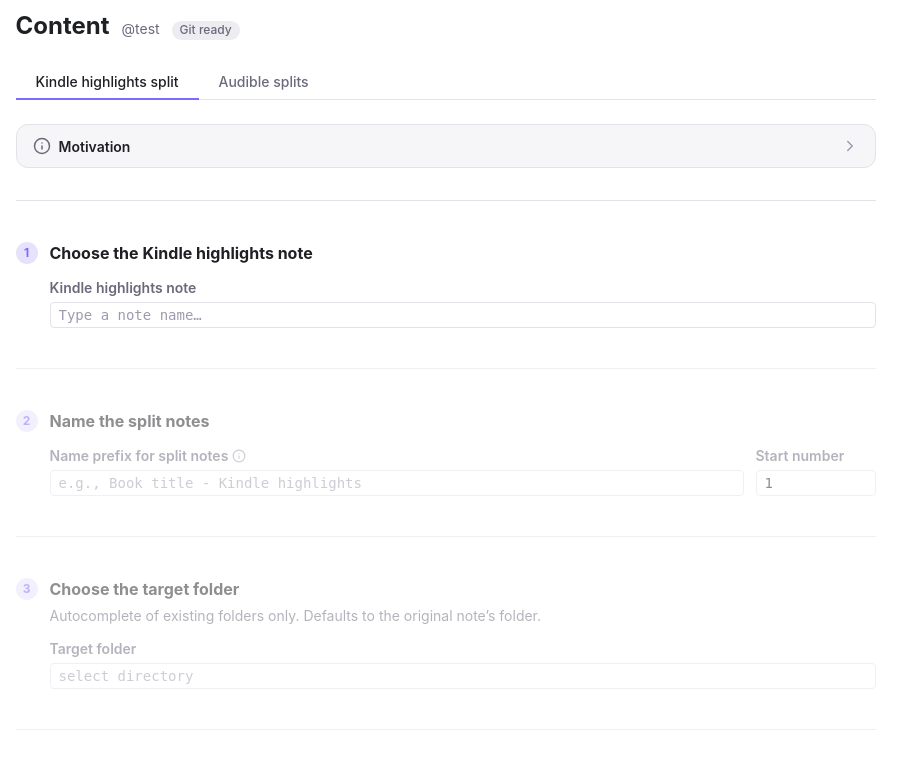
it: ContentPage: choosing a Kindle note confirms it and shows the highlight count
This screenshot has width=905, height=768.
In the field with placeholder "Type a note name…": {"x": 462, "y": 315} [50,302,876,328], type "Agile - Kindle highlights"
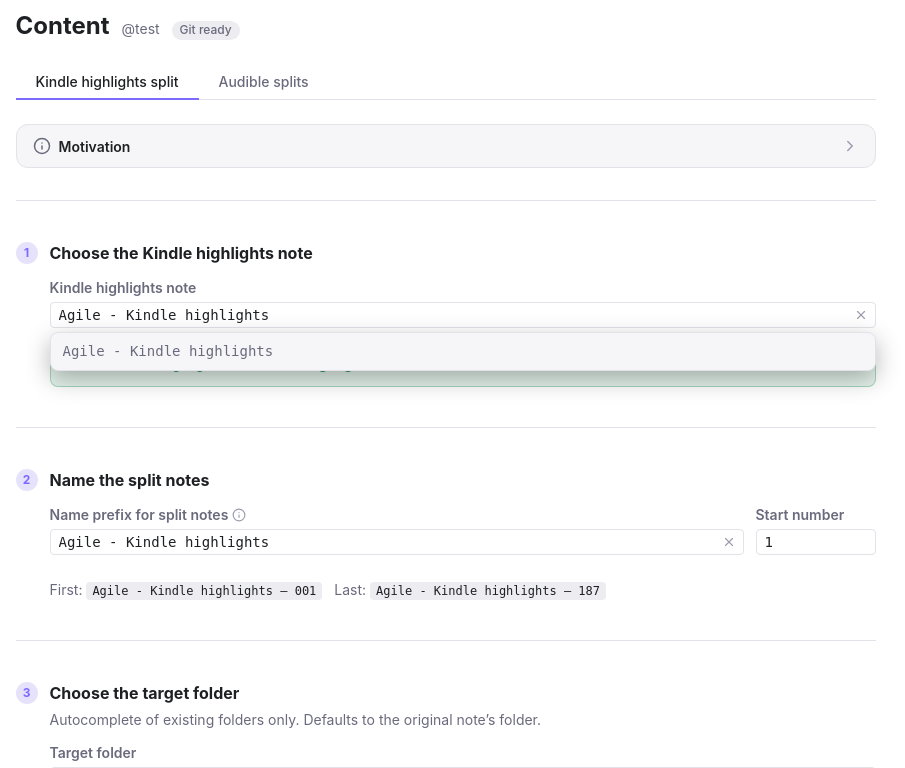
Now the text "187 highlights" is shown, box [279,355,374,372]
